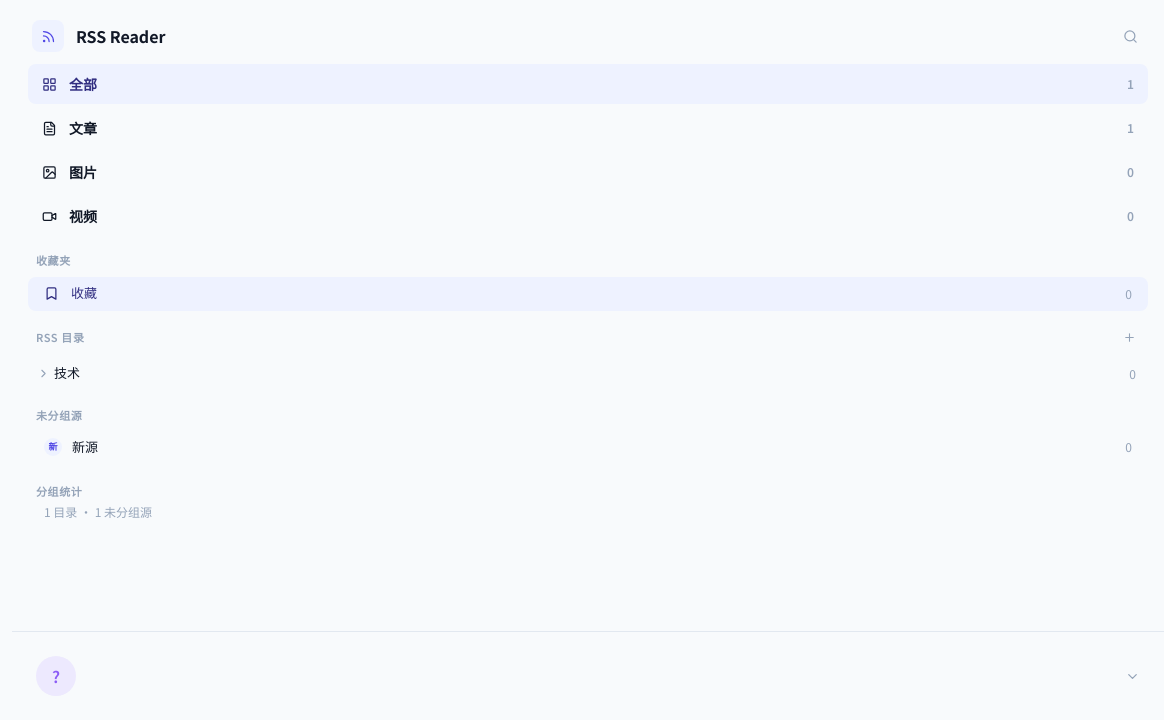
it: Sidebar 点击源 › 收藏态下点源：退出收藏
This screenshot has width=1164, height=720.
What coordinates should you click on to do the following:
click the text "新源"
I would click on:
 (85, 446)
Its box is [72,437,98,456].
(page scrolled)
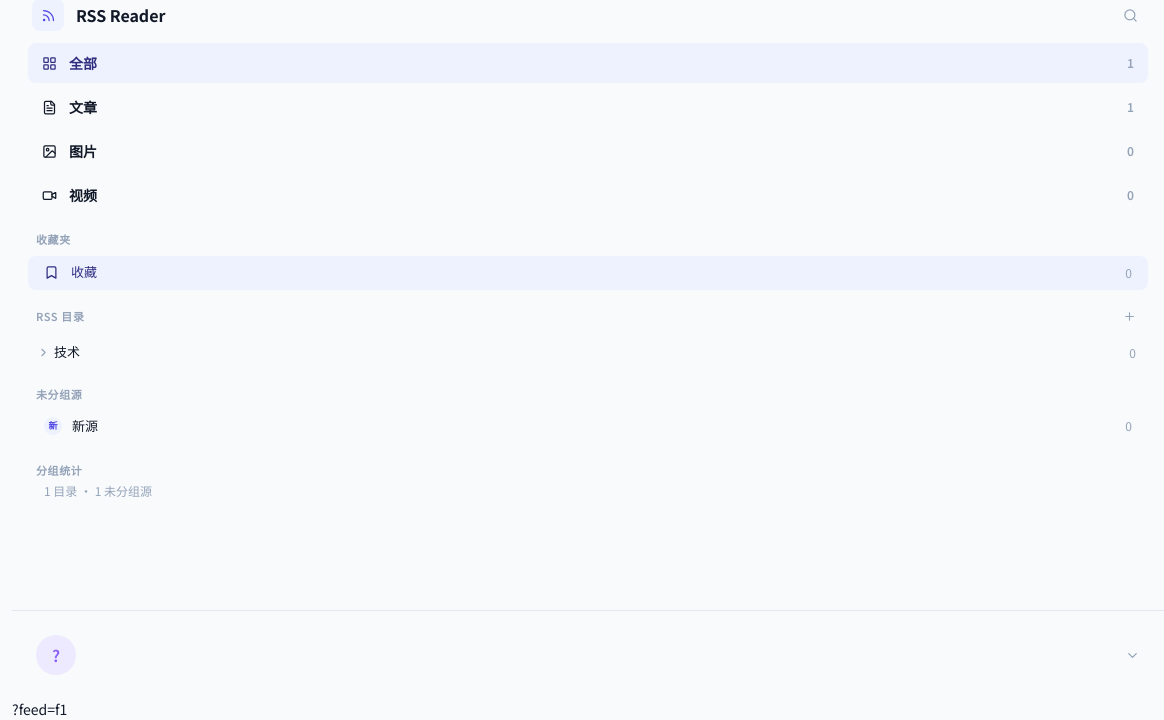
Expected: the text with test id "query" reads "?feed=f1", [12,699,67,719]
